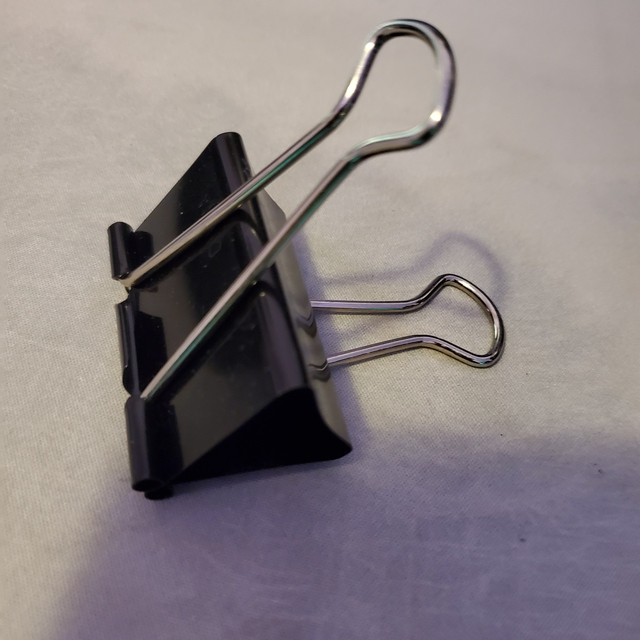clip: (110, 18, 528, 509)
